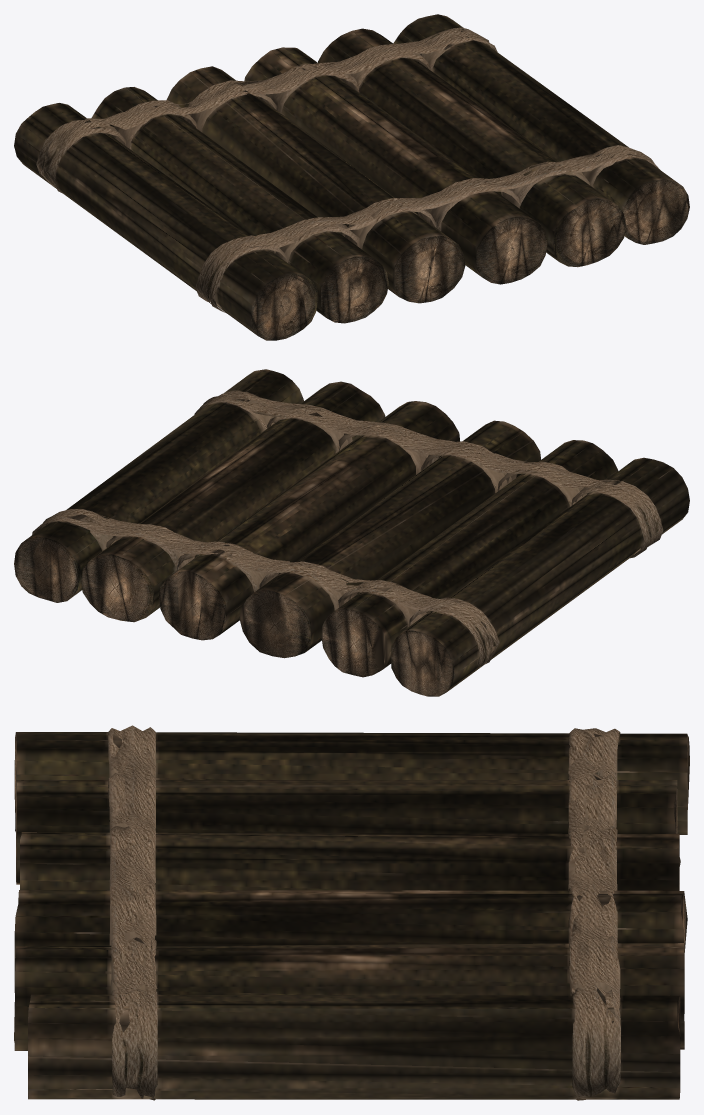
Rendered from log_raft.fbx.
3 renders of one model, top to bottom at view 1: azimuth 30°, elevation 25°; view 2: azimuth 150°, elevation 25°; view 3: azimuth 270°, elevation 25°, orthographic. The views are drawn at different scales.
Visible parts, largest first — view 1: Mesh_0; view 2: Mesh_0; view 3: Mesh_0.
Boxes of the visible parts, x1,y1,x2,y2 form: Mesh_0: (14,14,689,340); Mesh_0: (14,369,689,696); Mesh_0: (14,725,689,1100).
Size of the model in its own units: 96.09 by 14.31 by 85.74.
1 material, 1 textured.
